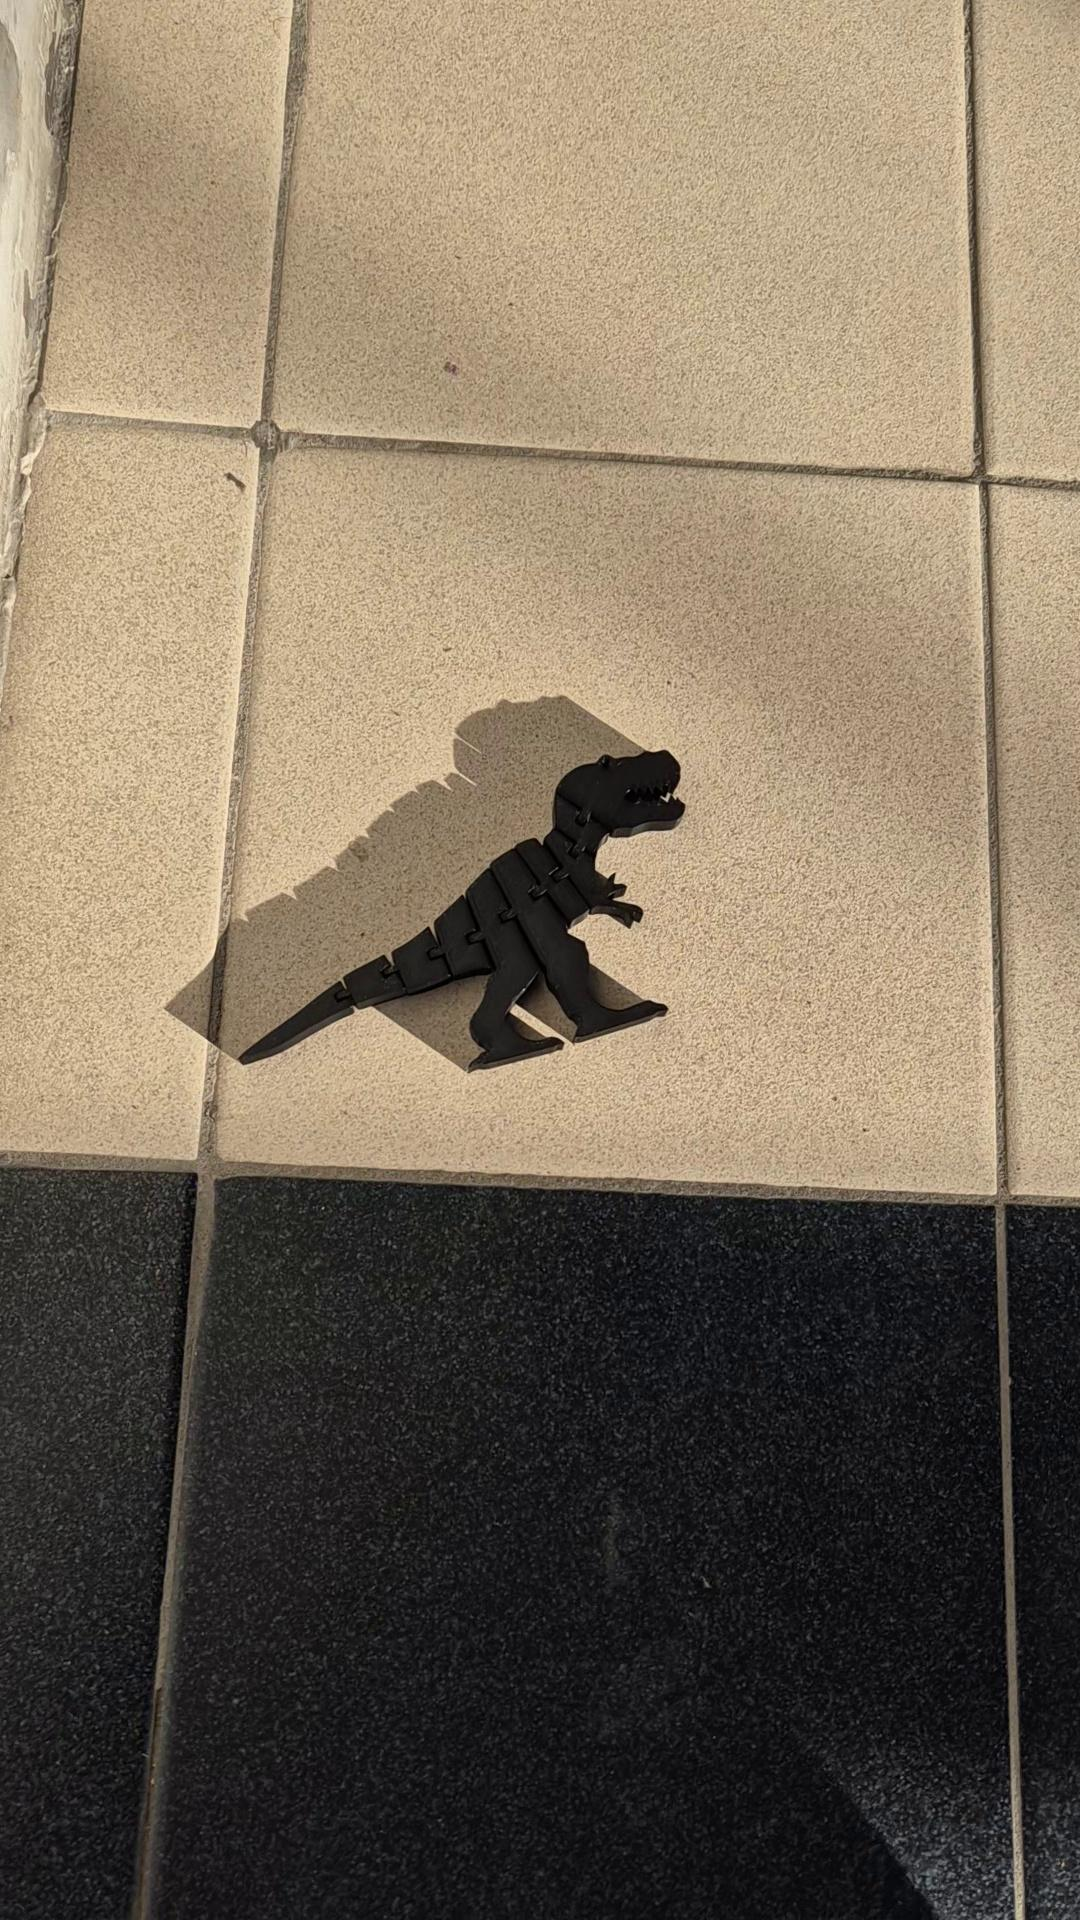dinosaur: (236, 749, 687, 1076)
